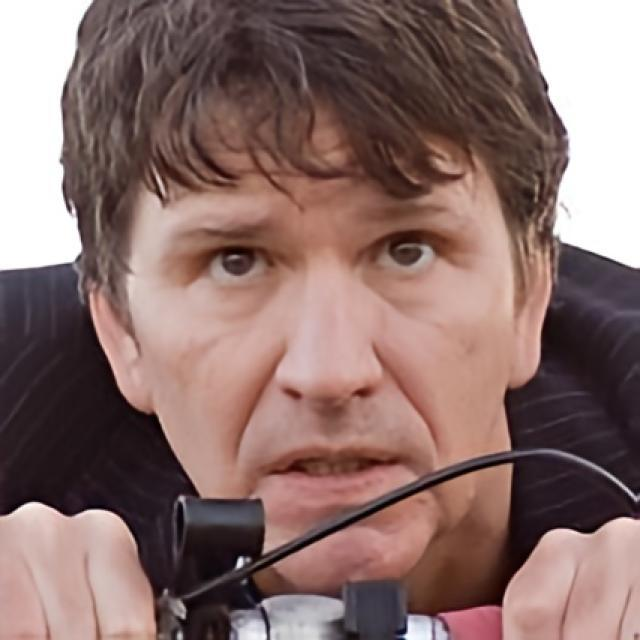disgust: (127, 56, 517, 596)
